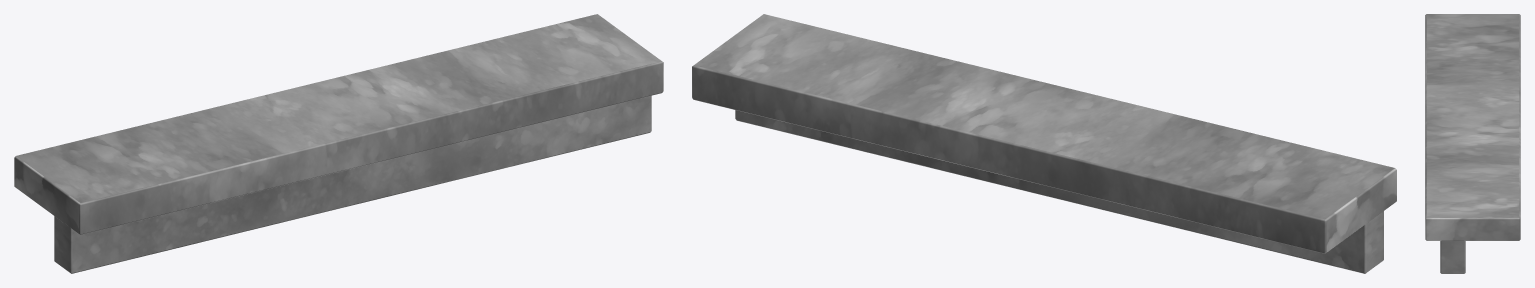
Rendered from SM_StepStair_02b.fbx.
3 renders of one model, left to right at view 1: azimuth 30°, elevation 25°; view 2: azimuth 150°, elevation 25°; view 3: azimuth 270°, elevation 25°, orthographic. The views are drawn at different scales.
Visible parts, largest first — view 1: SM_StepStair_02b_LOD0; view 2: SM_StepStair_02b_LOD0; view 3: SM_StepStair_02b_LOD0.
Boxes of the visible parts, <box> form: SM_StepStair_02b_LOD0: <box>14,14,663,273</box>; SM_StepStair_02b_LOD0: <box>692,14,1396,273</box>; SM_StepStair_02b_LOD0: <box>1425,14,1520,273</box>.
Size of the model in its own units: 192 by 37.67 by 24.7.
